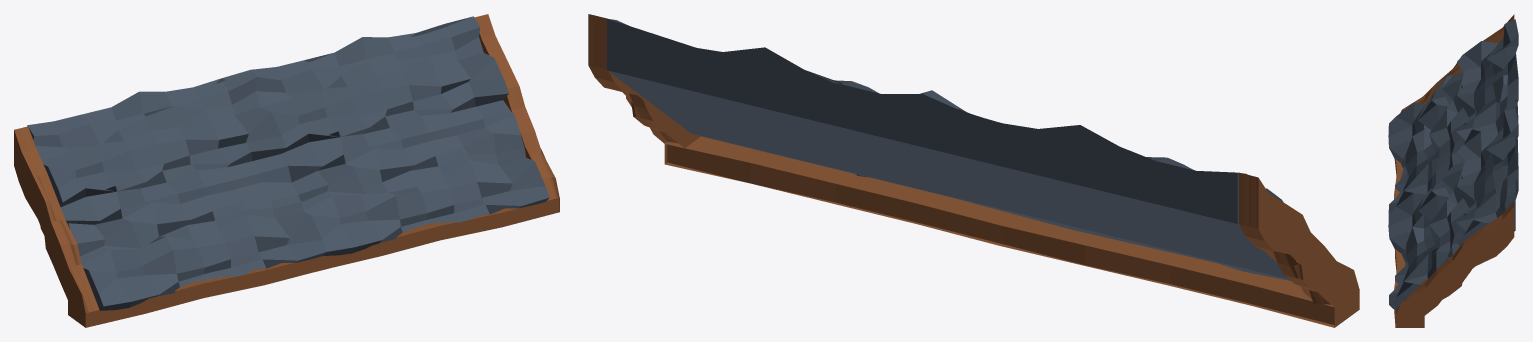
File: Roofblend.fbx
The picture shows the model from 3 angles, left to right: view 1: azimuth 30°, elevation 25°; view 2: azimuth 150°, elevation 25°; view 3: azimuth 270°, elevation 25°; orthographic projection. The views are drawn at different scales.
Parts seen in each view (by area): view 1: Cube.002, Cube.001; view 2: Cube.002, Cube.001; view 3: Cube.002, Cube.001.
Part boxes in pixels (<box>): Cube.002: <box>27,16,549,310</box>; Cube.001: <box>14,14,559,327</box>; Cube.002: <box>607,18,1290,280</box>; Cube.001: <box>588,14,1359,327</box>; Cube.002: <box>1388,19,1518,310</box>; Cube.001: <box>1394,14,1514,327</box>.
Bounding box in the file's own units: 6.8 × 2.1 × 1.94.
